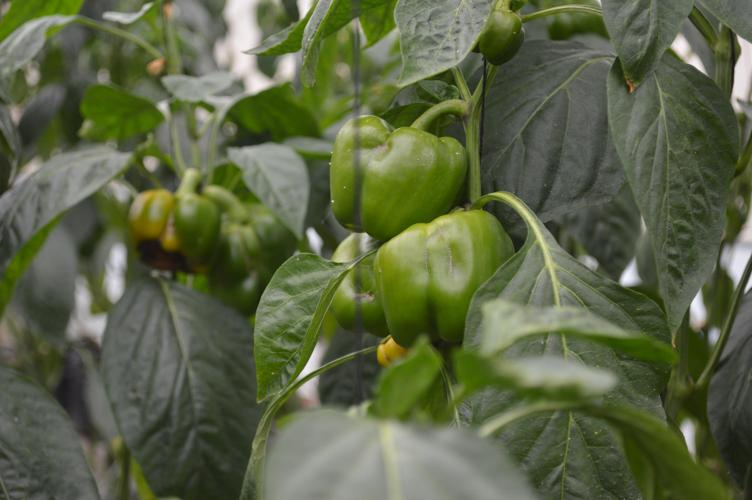BellPepper: (376, 210, 524, 358), (311, 117, 456, 262)
